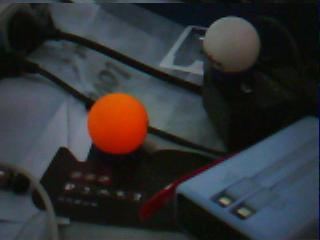oball: (87, 92, 148, 155)
